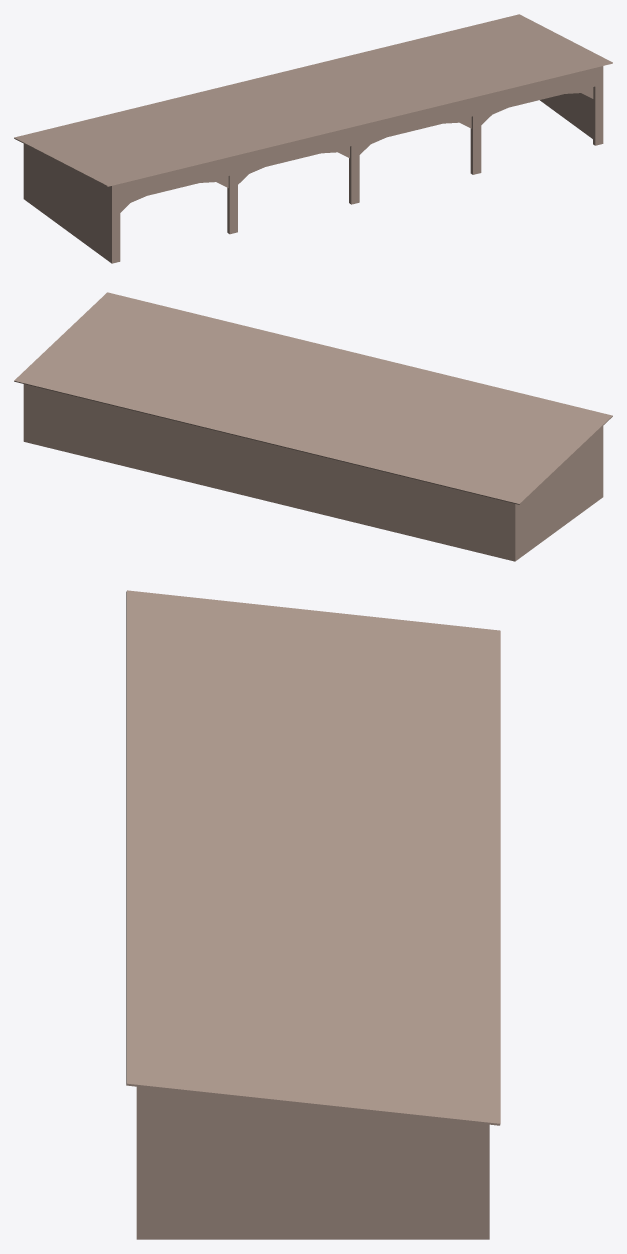
Rendered from Midlertidig_FlyHangar.dae.
The picture shows the model from 3 angles, top to bottom: view 1: azimuth 30°, elevation 25°; view 2: azimuth 150°, elevation 25°; view 3: azimuth 270°, elevation 25°; orthographic projection. The views are drawn at different scales.
Visible parts, largest first — view 1: Farm Shed 01; view 2: Farm Shed 01; view 3: Farm Shed 01.
Part boxes in pixels (x1=…): Farm Shed 01: x1=14, y1=14, x2=612, y2=263; Farm Shed 01: x1=14, y1=292, x2=612, y2=561; Farm Shed 01: x1=126, y1=590, x2=500, y2=1239.
Size of the model in its own units: 78 by 25 by 12.
